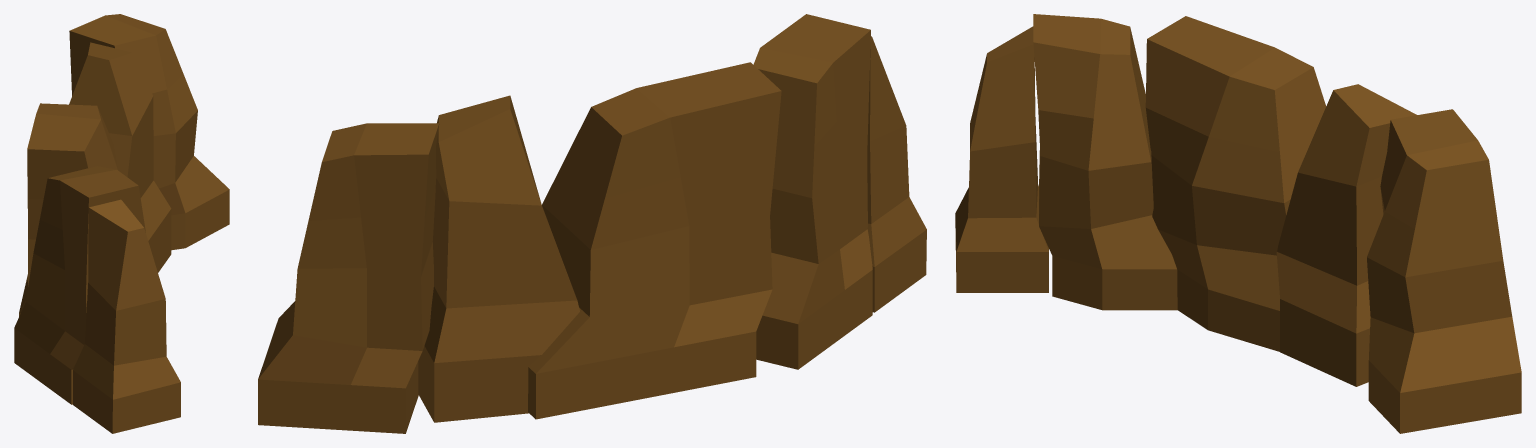
File: Greybox_Mountain.fbx
3 renders of one model, left to right at view 1: azimuth 30°, elevation 25°; view 2: azimuth 150°, elevation 25°; view 3: azimuth 270°, elevation 25°, orthographic. The views are drawn at different scales.
Visible parts, largest first — view 1: Cube.009; view 2: Cube.009; view 3: Cube.009.
Boxes of the visible parts, bbox=[...] form: Cube.009: bbox=[14, 14, 229, 433]; Cube.009: bbox=[258, 14, 926, 433]; Cube.009: bbox=[955, 14, 1521, 433].
Bounding box in the file's own units: 5281 × 3616 × 7171.
